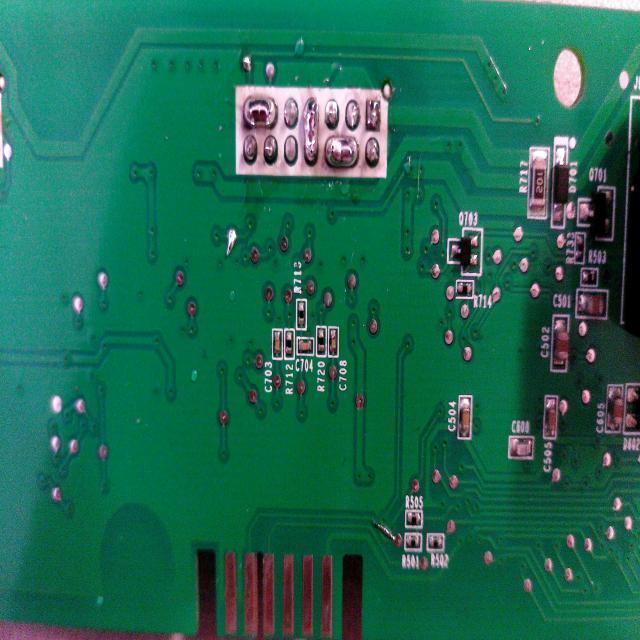Soldering shorted: (324, 132, 360, 181), (240, 90, 278, 132), (302, 93, 319, 178)
